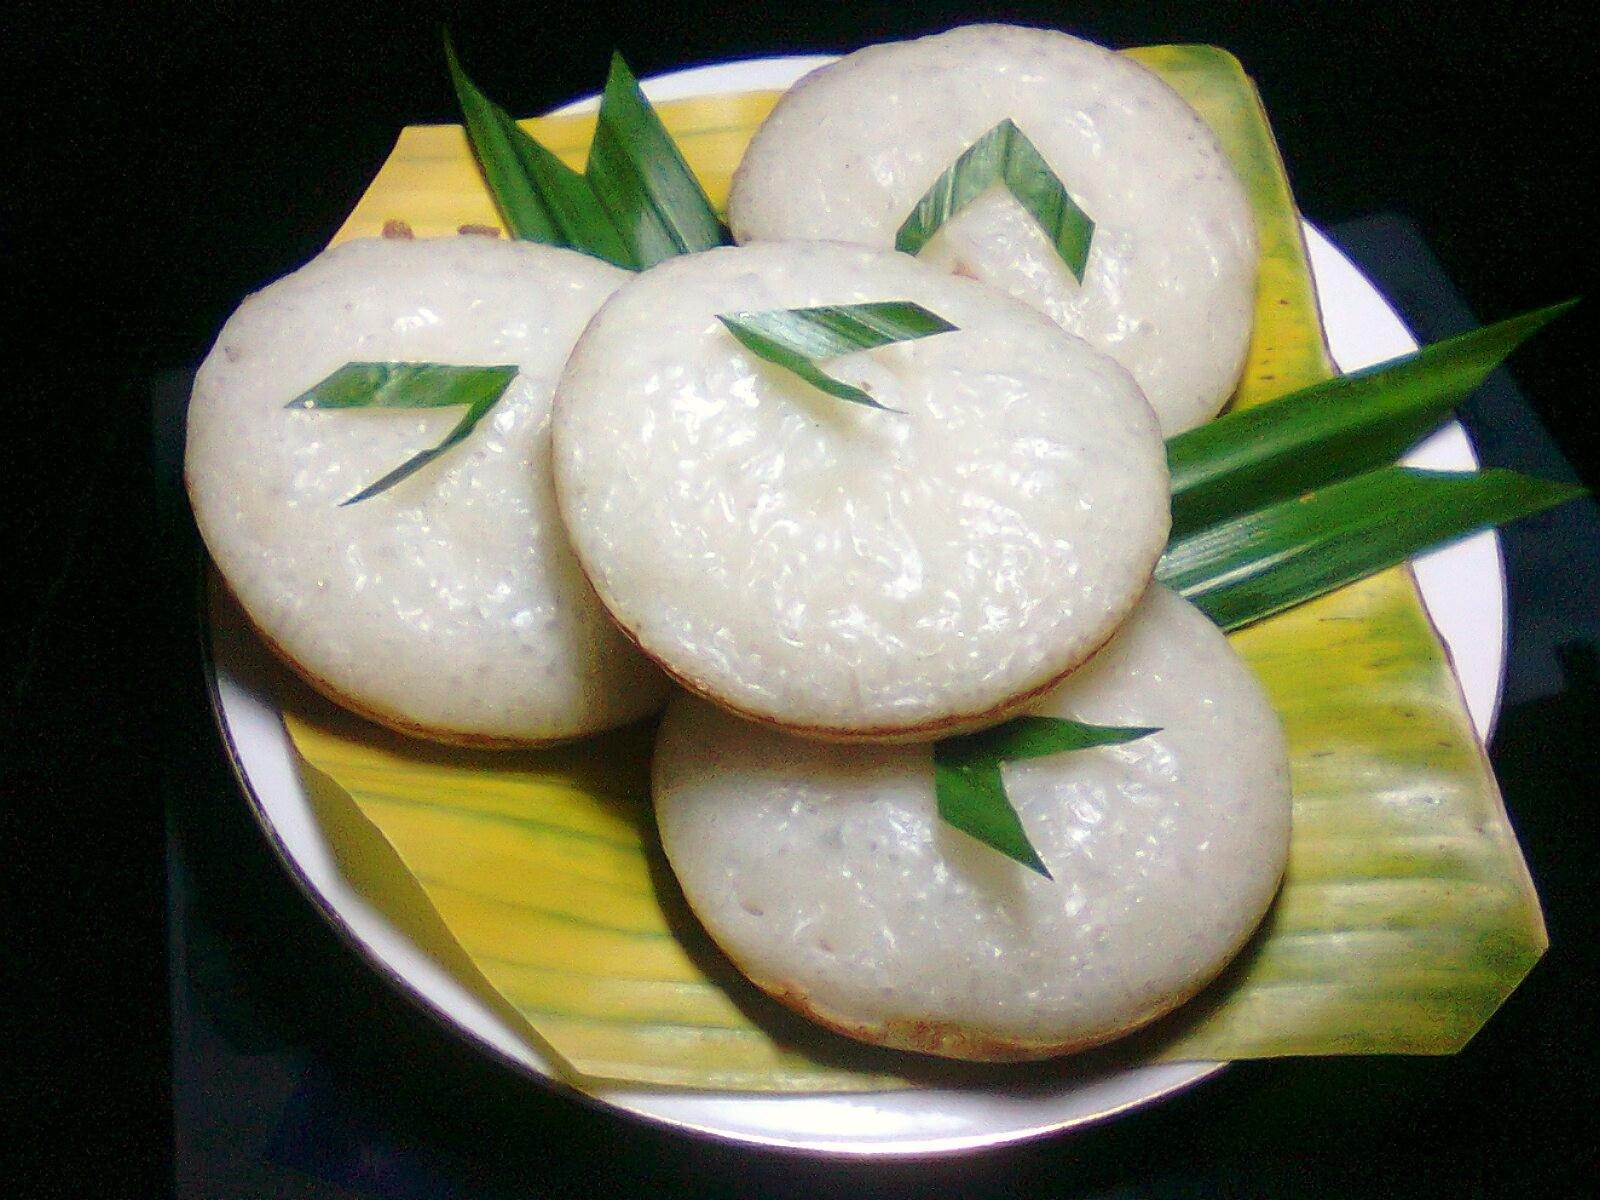srabi: (525, 180, 1203, 742)
